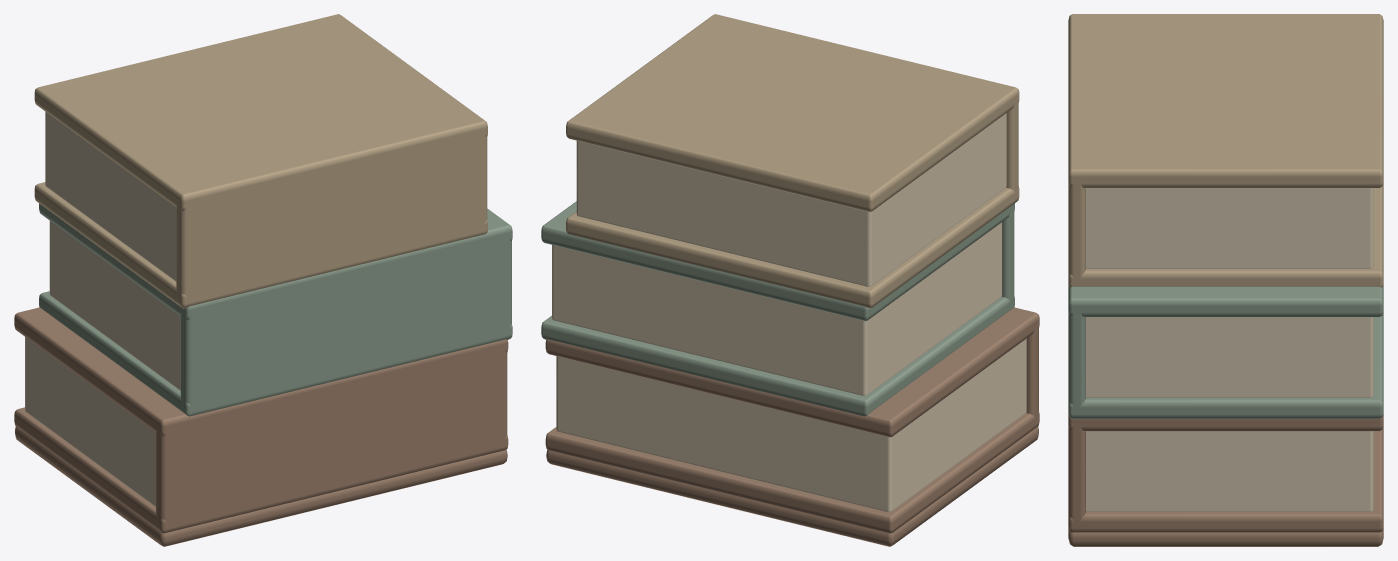
The model's file is bookstack.glb.
The picture shows the model from 3 angles, left to right: view 1: azimuth 30°, elevation 25°; view 2: azimuth 150°, elevation 25°; view 3: azimuth 270°, elevation 25°; orthographic projection. The views are drawn at different scales.
Parts seen in each view (by area): view 1: stacked-book-2-cover-0-22199999999999998, stacked-book-0-spine, stacked-book-1-spine, stacked-book-2-spine, stacked-book-2-pages, stacked-book-1-pages, stacked-book-0-pages, stacked-book-0-cover-0-07799999999999999, bottom-cover, stacked-book-0-cover-0-015000000000000001, stacked-book-2-cover-0-15899999999999997, stacked-book-1-cover-0-087 (+1 smaller); view 2: stacked-book-2-cover-0-22199999999999998, stacked-book-0-pages, stacked-book-1-pages, stacked-book-2-pages, stacked-book-0-cover-0-07799999999999999, stacked-book-0-cover-0-015000000000000001, stacked-book-1-cover-0-087, stacked-book-2-cover-0-15899999999999997, stacked-book-1-cover-0-14999999999999997, bottom-cover, stacked-book-2-spine, stacked-book-0-spine (+1 smaller); view 3: stacked-book-2-cover-0-22199999999999998, stacked-book-0-pages, stacked-book-1-pages, stacked-book-2-pages, stacked-book-1-cover-0-14999999999999997, stacked-book-1-cover-0-087, stacked-book-0-cover-0-015000000000000001, stacked-book-2-cover-0-15899999999999997, bottom-cover, stacked-book-0-cover-0-07799999999999999, stacked-book-2-spine, stacked-book-0-spine (+1 smaller).
Part boxes in pixels (left/top/right/bottom): stacked-book-2-cover-0-22199999999999998: left=34, top=14, right=487, bottom=210; stacked-book-0-spine: left=156, top=347, right=507, bottom=522; stacked-book-1-spine: left=180, top=222, right=511, bottom=409; stacked-book-2-spine: left=176, top=118, right=487, bottom=300; stacked-book-2-pages: left=45, top=111, right=176, bottom=281; stacked-book-1-pages: left=49, top=221, right=180, bottom=390; stacked-book-0-pages: left=25, top=337, right=155, bottom=506; stacked-book-0-cover-0-07799999999999999: left=14, top=307, right=508, bottom=436; bottom-cover: left=15, top=426, right=507, bottom=546; stacked-book-0-cover-0-015000000000000001: left=14, top=407, right=508, bottom=533; stacked-book-2-cover-0-15899999999999997: left=34, top=182, right=487, bottom=308; stacked-book-1-cover-0-087: left=39, top=291, right=512, bottom=416; stacked-book-2-cover-0-22199999999999998: left=566, top=14, right=1019, bottom=212; stacked-book-0-pages: left=556, top=338, right=1026, bottom=511; stacked-book-1-pages: left=552, top=222, right=1001, bottom=395; stacked-book-2-pages: left=576, top=113, right=1006, bottom=286; stacked-book-0-cover-0-07799999999999999: left=545, top=307, right=1039, bottom=437; stacked-book-0-cover-0-015000000000000001: left=545, top=412, right=1039, bottom=533; stacked-book-1-cover-0-087: left=541, top=295, right=1014, bottom=416; stacked-book-2-cover-0-15899999999999997: left=566, top=186, right=1019, bottom=308; stacked-book-1-cover-0-14999999999999997: left=541, top=201, right=1014, bottom=321; bottom-cover: left=546, top=426, right=1038, bottom=546; stacked-book-2-spine: left=714, top=15, right=1018, bottom=192; stacked-book-0-spine: left=1011, top=308, right=1038, bottom=418; stacked-book-2-cover-0-22199999999999998: left=1068, top=14, right=1383, bottom=188; stacked-book-0-pages: left=1086, top=431, right=1373, bottom=511; stacked-book-1-pages: left=1086, top=317, right=1373, bottom=397; stacked-book-2-pages: left=1086, top=188, right=1373, bottom=268; stacked-book-1-cover-0-14999999999999997: left=1068, top=284, right=1383, bottom=317; stacked-book-1-cover-0-087: left=1068, top=311, right=1383, bottom=418; stacked-book-0-cover-0-015000000000000001: left=1068, top=425, right=1383, bottom=532; stacked-book-2-cover-0-15899999999999997: left=1068, top=182, right=1383, bottom=287; bottom-cover: left=1068, top=527, right=1383, bottom=546; stacked-book-0-cover-0-07799999999999999: left=1068, top=413, right=1383, bottom=431; stacked-book-2-spine: left=1068, top=14, right=1085, bottom=281; stacked-book-0-spine: left=1068, top=423, right=1085, bottom=524.
Size of the model in its own units: 0.4355 by 0.4125 by 0.32.
